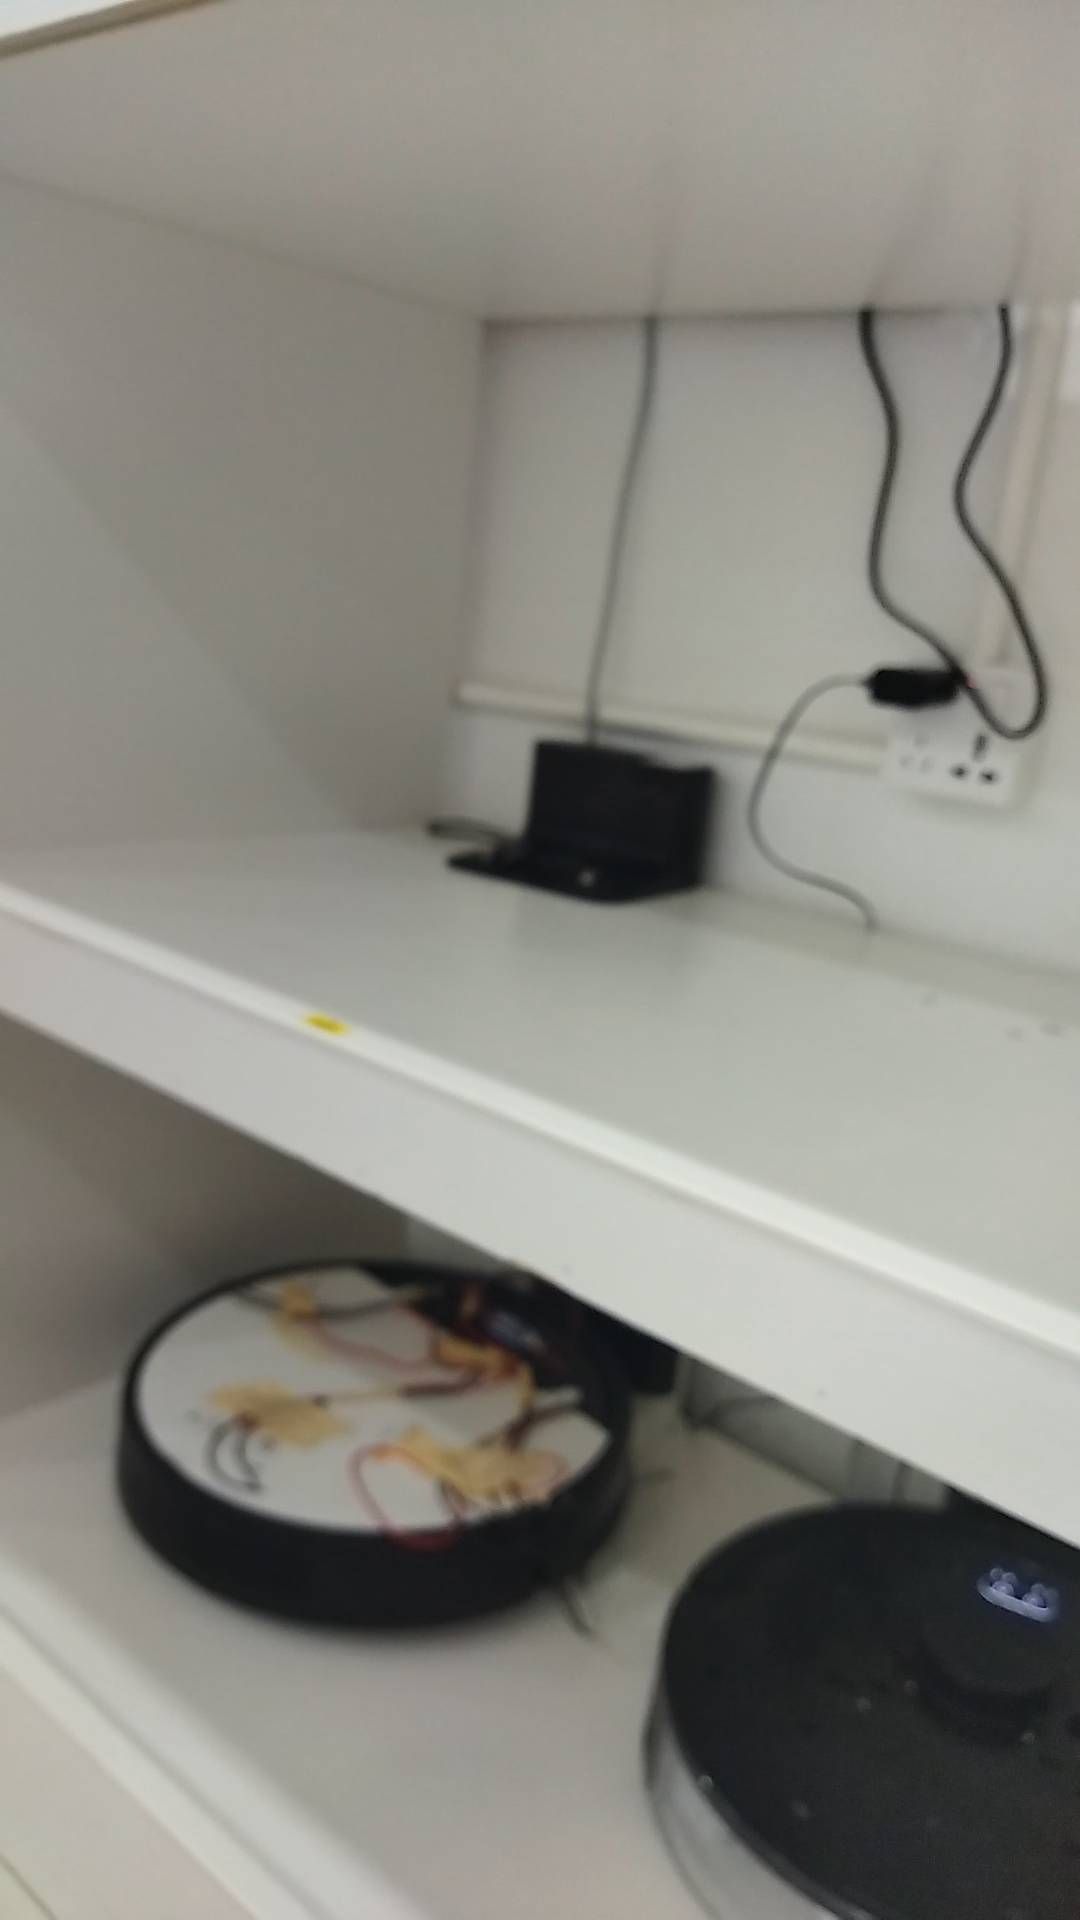recharge seat: (443, 735, 720, 906)
